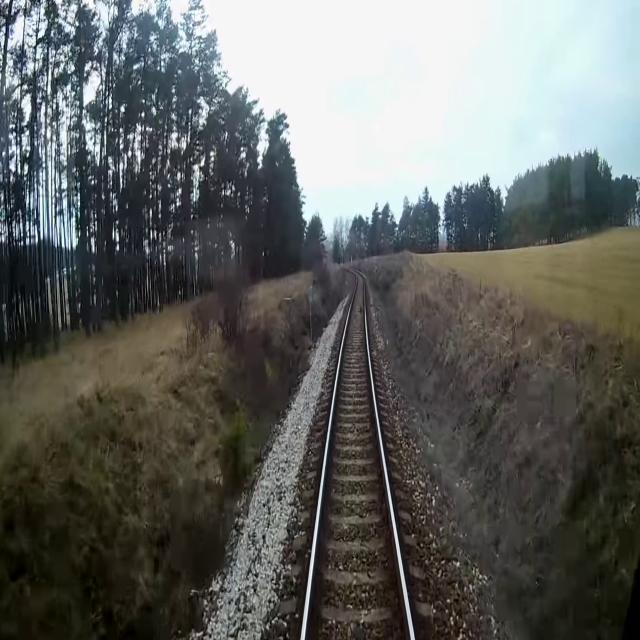rail-track: (305, 272, 410, 639)
